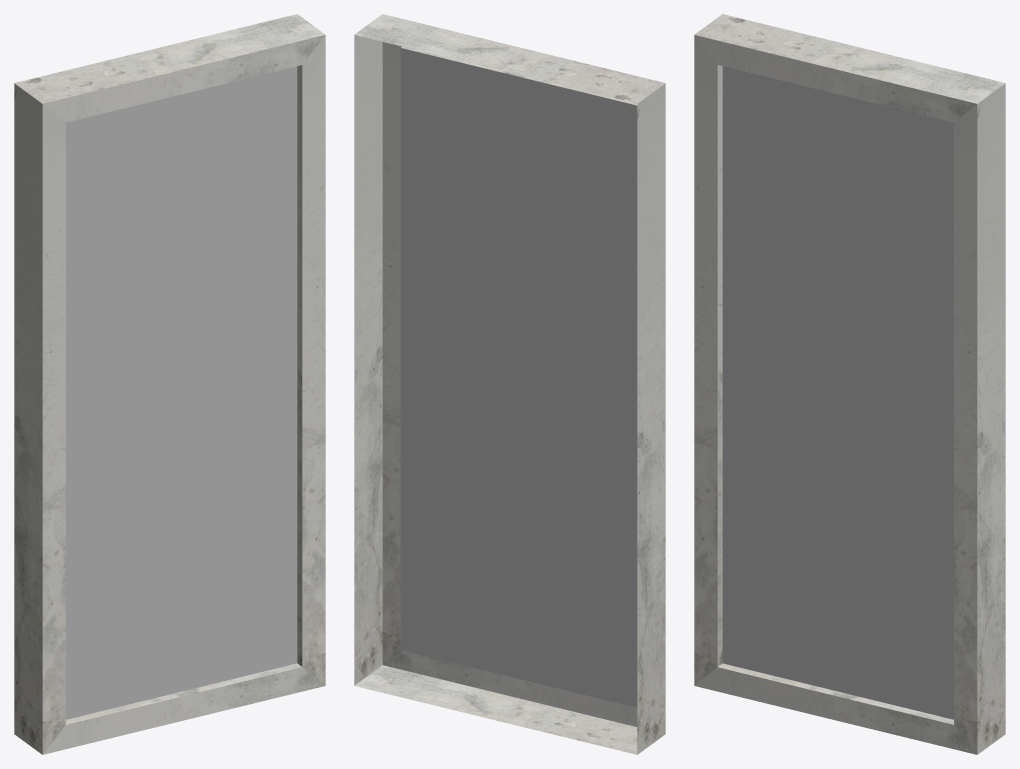
Rendered from window 7 dr.FBX.
3 views of the same model, side by side, from view 1: azimuth 30°, elevation 25°; view 2: azimuth 150°, elevation 25°; view 3: azimuth 330°, elevation 25° (orthographic).
Visible parts, largest first — view 1: window004; view 2: window004; view 3: window004.
Boxes of the visible parts, <box> form: window004: <box>14,14,325,754</box>; window004: <box>354,14,665,754</box>; window004: <box>694,14,1005,754</box>.
Size of the model in its own units: 0.9709 by 2.13 by 0.1688.
